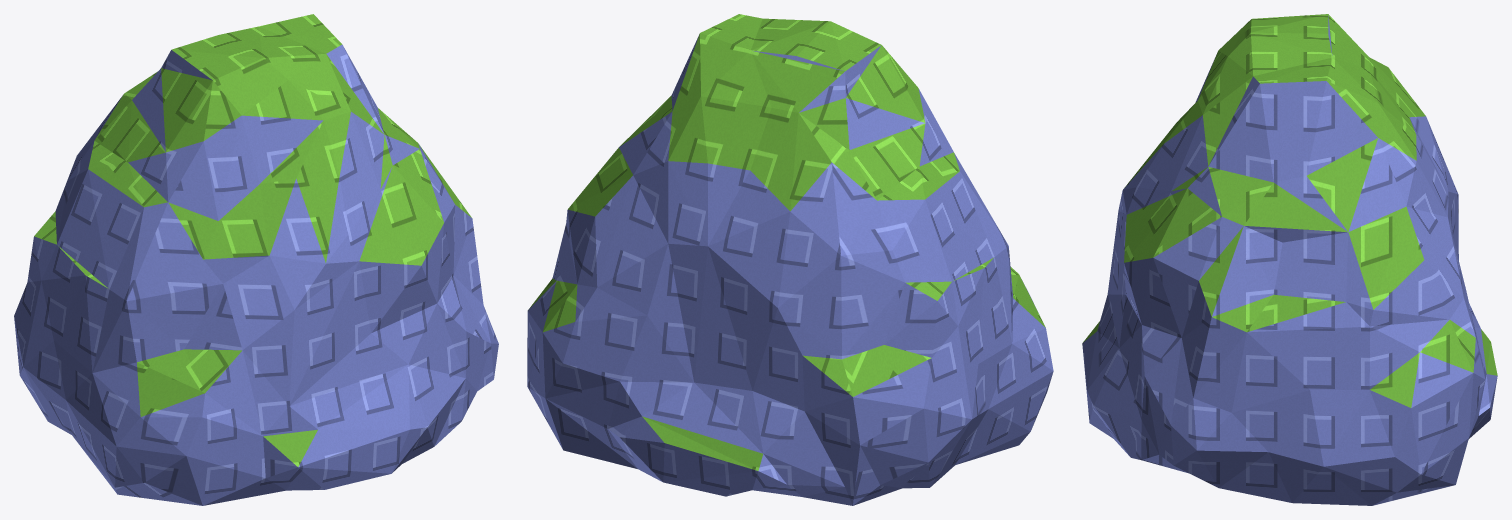
File: RoundBoulder.glb
3 views of the same model, side by side, from view 1: azimuth 30°, elevation 25°; view 2: azimuth 150°, elevation 25°; view 3: azimuth 270°, elevation 25° (orthographic). The views are drawn at different scales.
Parts seen in each view (by area): view 1: RoundBoulder_Rock, RoundBoulder_Top; view 2: RoundBoulder_Rock, RoundBoulder_Top; view 3: RoundBoulder_Rock, RoundBoulder_Top.
Part boxes in pixels (box(x1,y1,x2,y2)): RoundBoulder_Rock: box(14, 44, 498, 505); RoundBoulder_Top: box(34, 14, 471, 466); RoundBoulder_Rock: box(527, 34, 1053, 505); RoundBoulder_Top: box(528, 14, 1045, 470); RoundBoulder_Rock: box(1082, 15, 1497, 505); RoundBoulder_Top: box(1083, 14, 1497, 407).
Bounding box in the file's own units: 8.34 × 7.53 × 7.22.
Materials: 2 (2 with a texture image).
